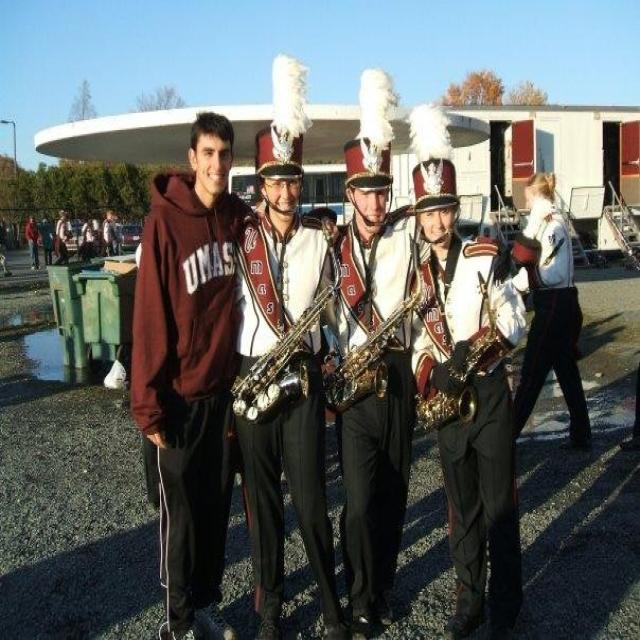saxophone: (221, 214, 343, 426), (320, 235, 427, 418), (413, 270, 500, 431)
